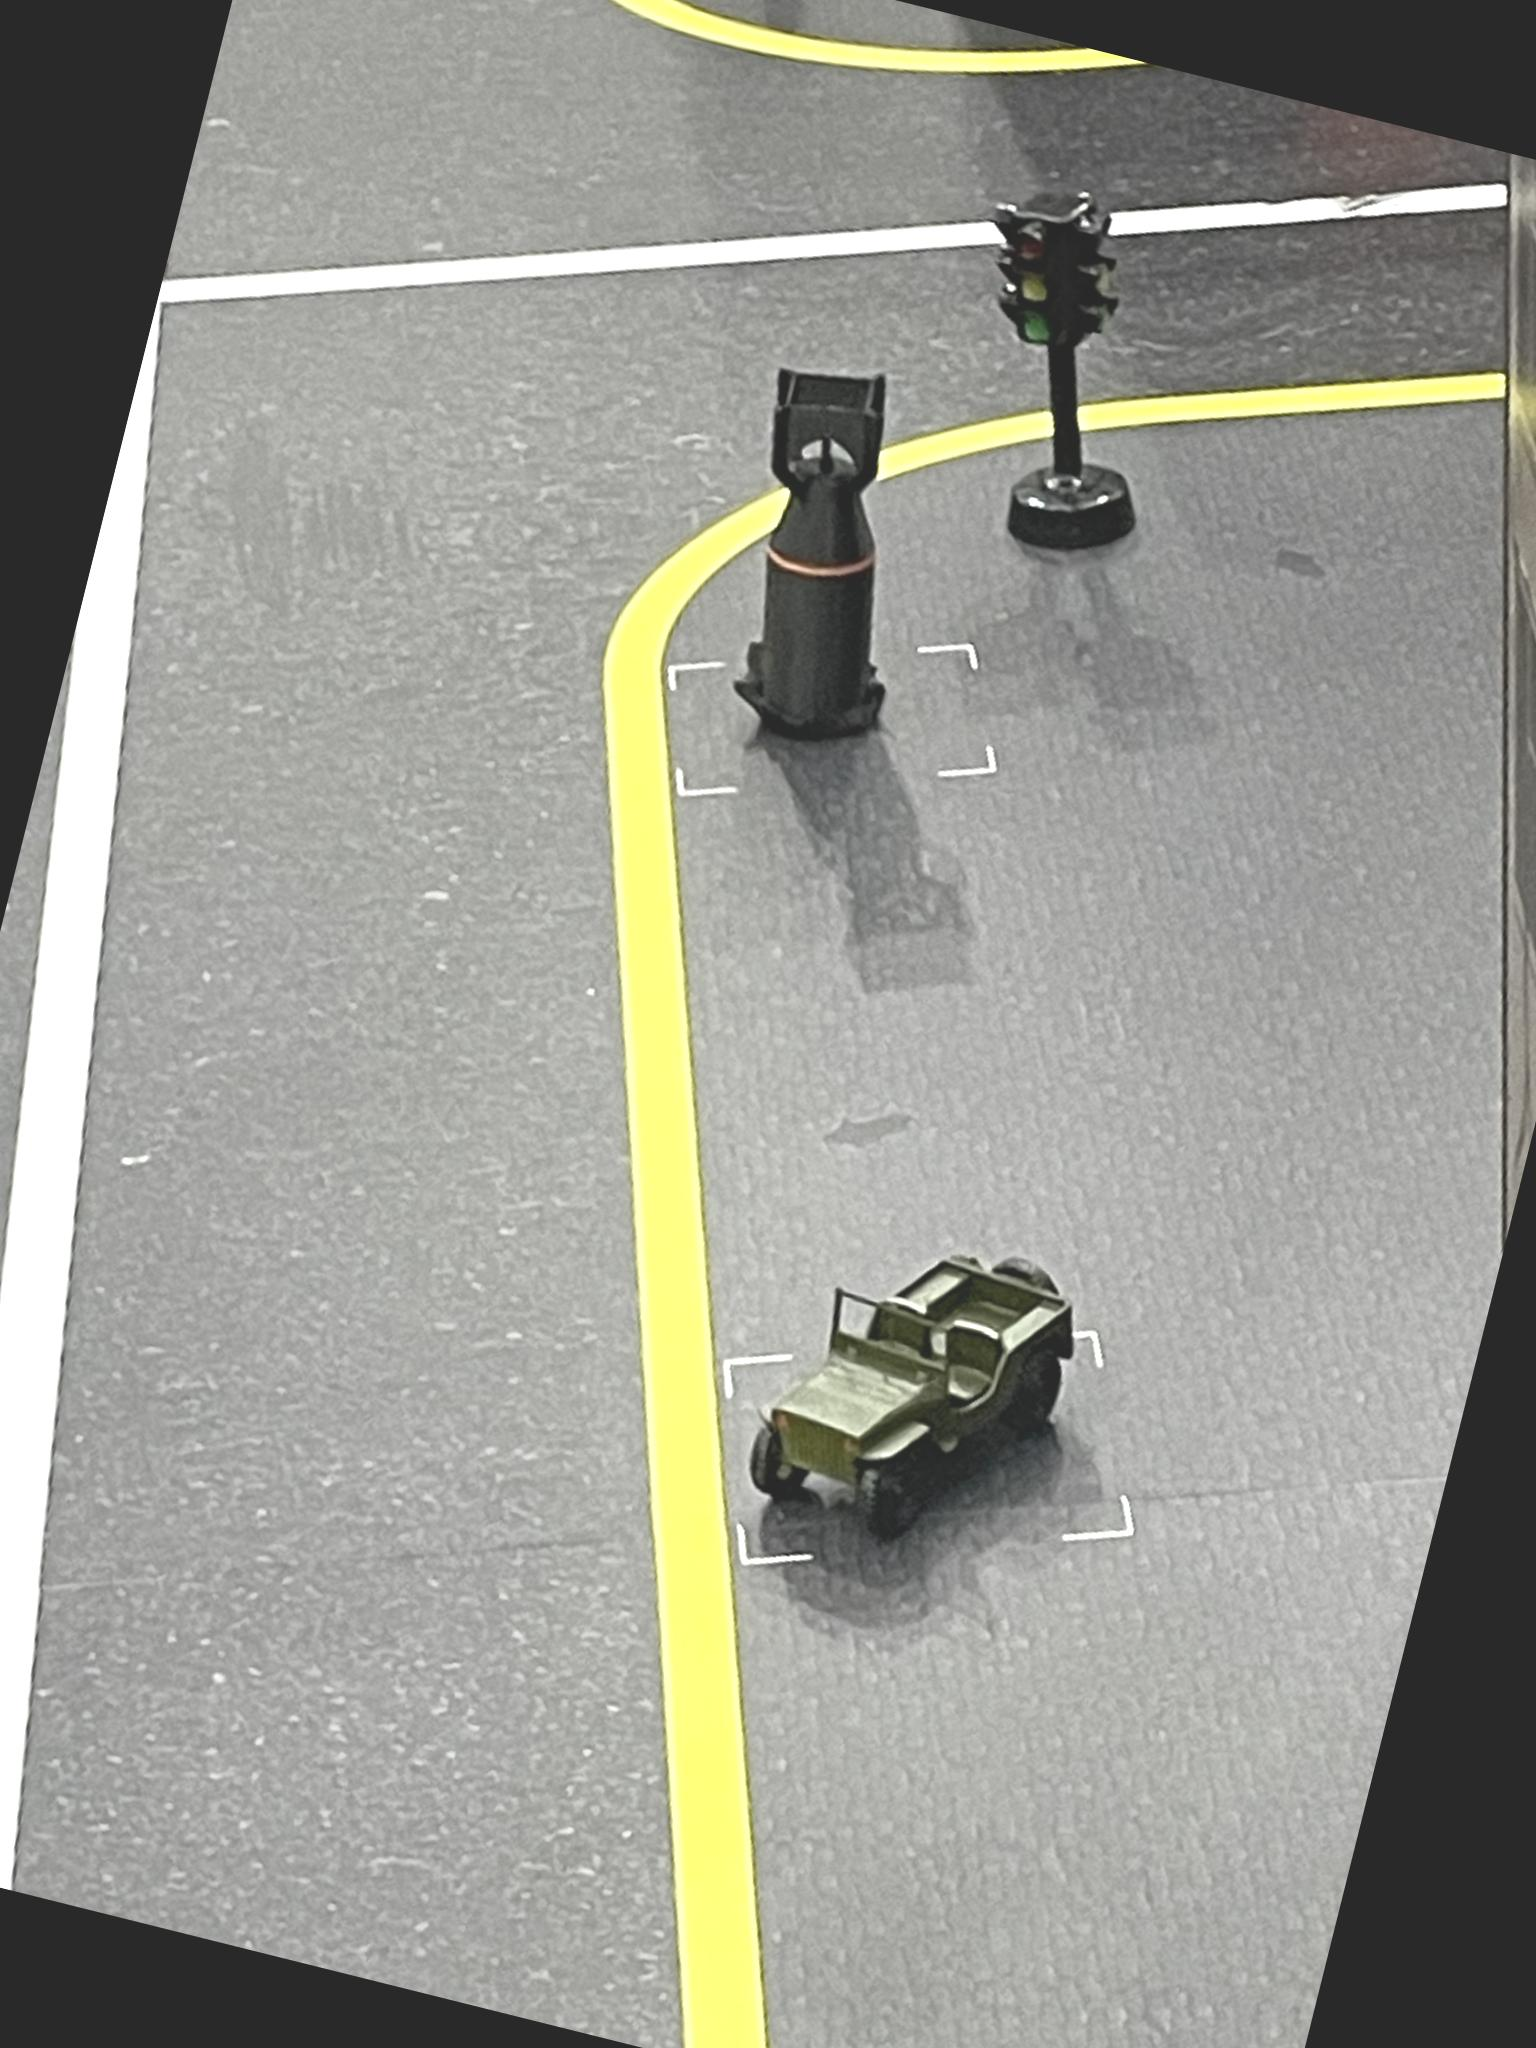Car: (723, 1197, 1100, 1587)
Missile: (684, 345, 963, 774)
